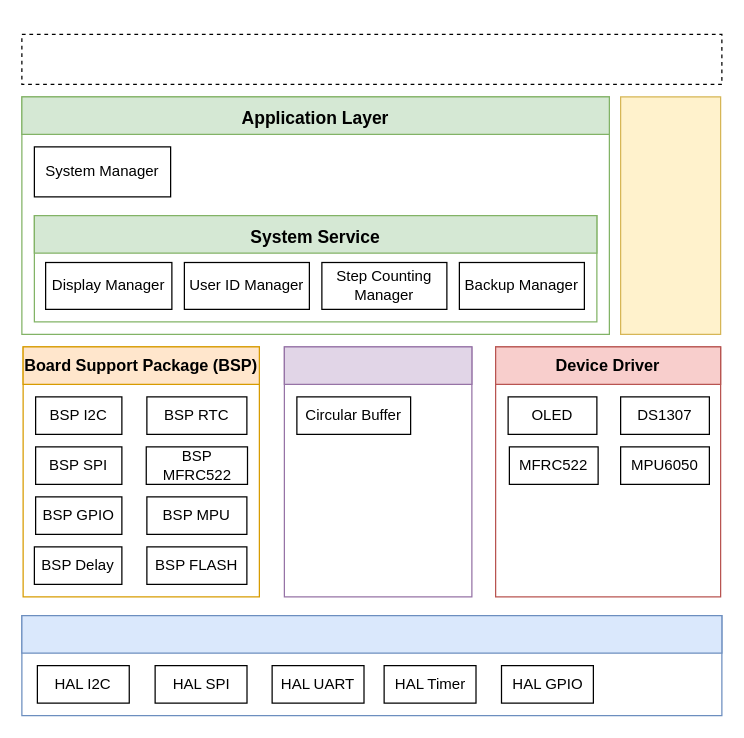
Some shapes in this 744 by 738 pixel diagram are drawn without their labels. The shapes that lost their labels are listed below. From the top down, each one's centre as x and y in pixels, then its label:
At [371,58]: "FIRMWARE ARCHITECTURE".
At [670,215]: "Bootloader".
At [377,365]: "Middleware & Libraries".
At [371,633]: "Hardware Abstraction Layer (HAL)".
